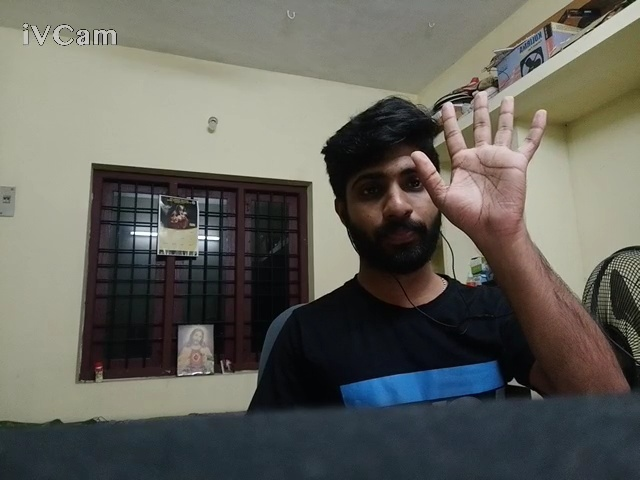Hello: (404, 79, 579, 243)
